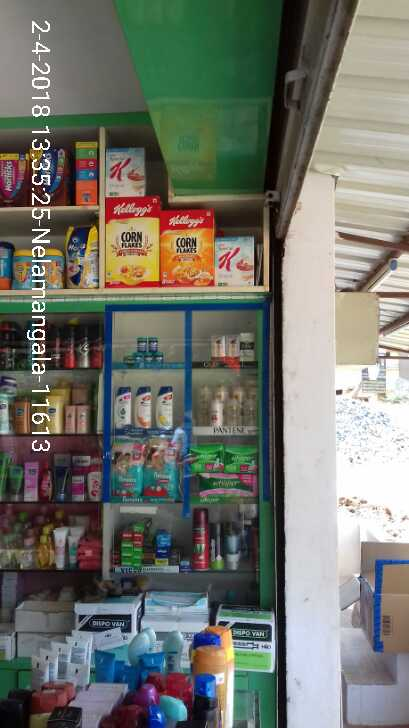vicks: (133, 337, 163, 361)
